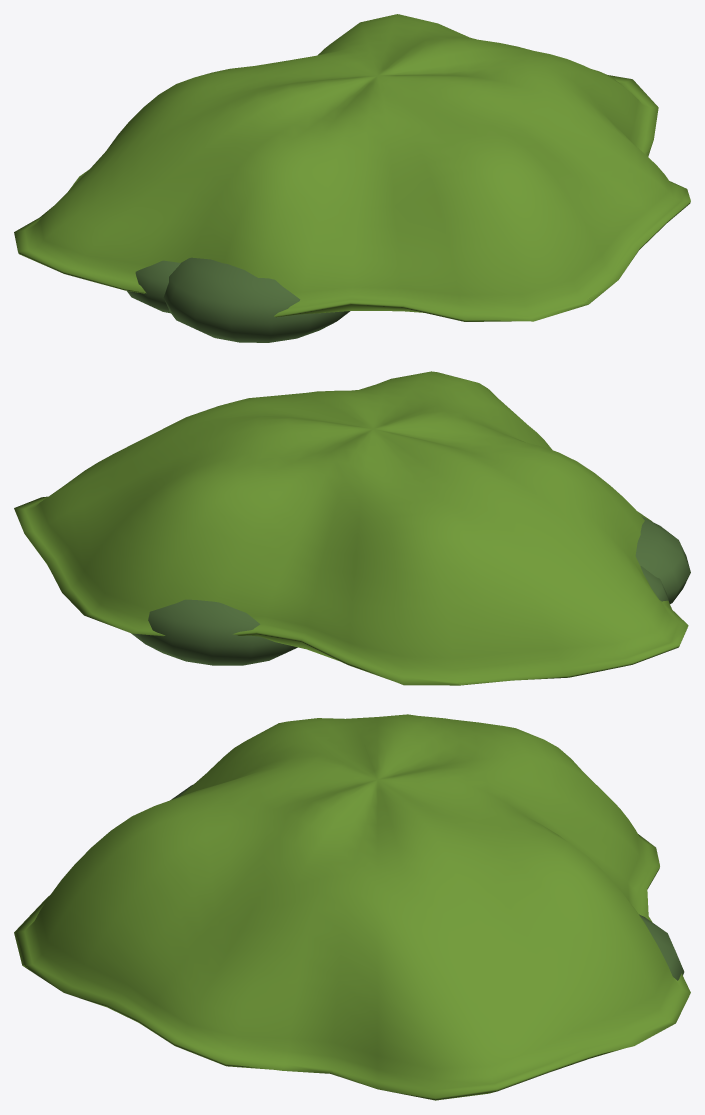
Rendered from sh_moss_clump_l.fbx.
The picture shows the model from 3 angles, top to bottom: view 1: azimuth 30°, elevation 25°; view 2: azimuth 150°, elevation 25°; view 3: azimuth 270°, elevation 25°; orthographic projection. The views are drawn at different scales.
Parts seen in each view (by area): view 1: SH_Moss_Clump_L; view 2: SH_Moss_Clump_L; view 3: SH_Moss_Clump_L.
Part boxes in pixels (bbox=[...]): SH_Moss_Clump_L: bbox=[14, 14, 690, 342]; SH_Moss_Clump_L: bbox=[14, 371, 690, 685]; SH_Moss_Clump_L: bbox=[14, 714, 690, 1100].
Size of the model in its own units: 59.61 by 15.81 by 46.98.
